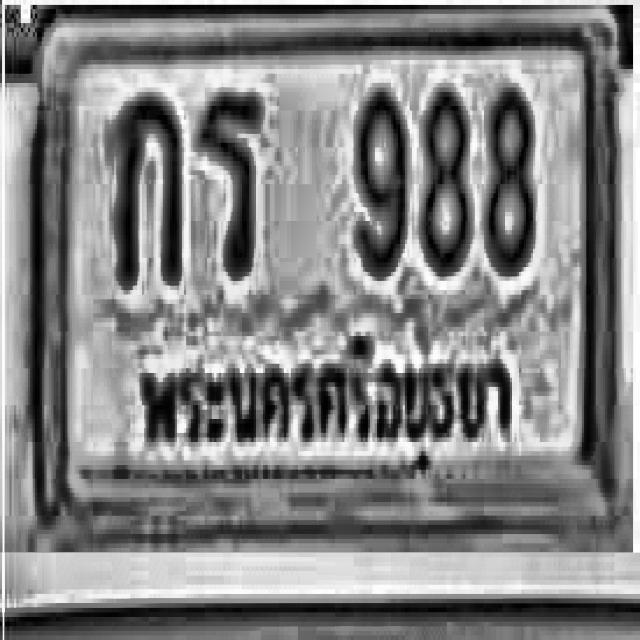license-plate: (37, 0, 616, 543)
